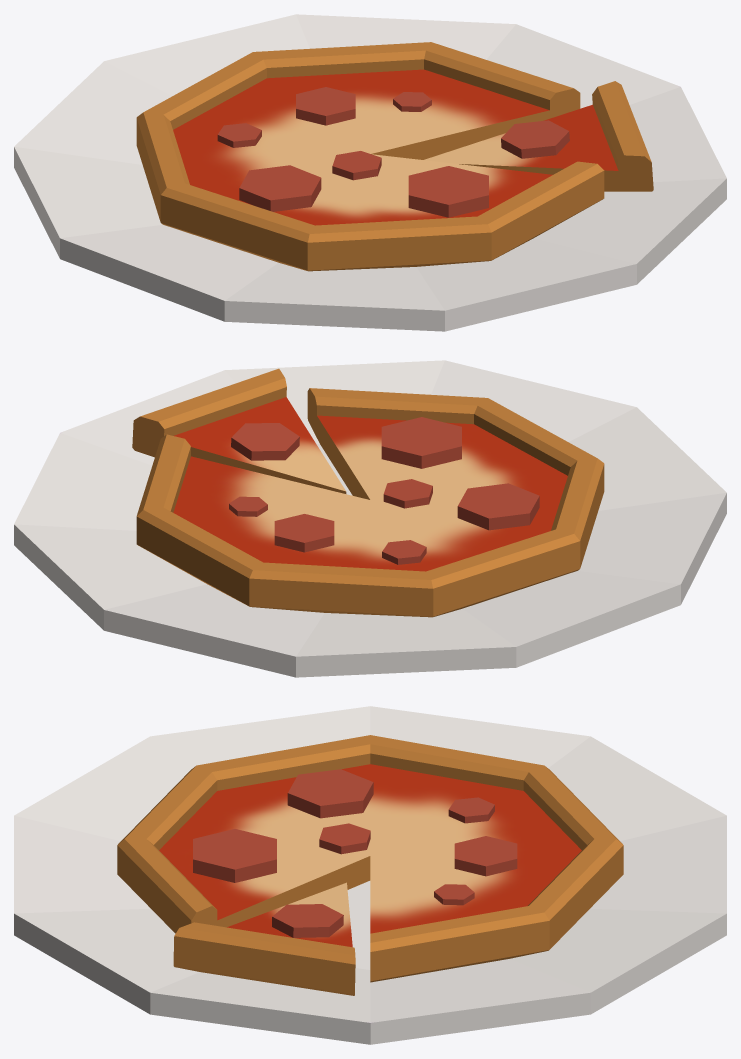
The model's file is pizza.fbx.
3 views of the same model, one above another, from view 1: azimuth 30°, elevation 25°; view 2: azimuth 150°, elevation 25°; view 3: azimuth 270°, elevation 25° (orthographic). The views are drawn at different scales.
Parts seen in each view (by area): view 1: pizza; view 2: pizza; view 3: pizza.
Boxes of the visible parts, bbox=[...] form: pizza: bbox=[14, 14, 726, 331]; pizza: bbox=[14, 360, 726, 677]; pizza: bbox=[14, 706, 726, 1044].
Size of the model in its own units: 2.96 by 0.3513 by 2.82.
